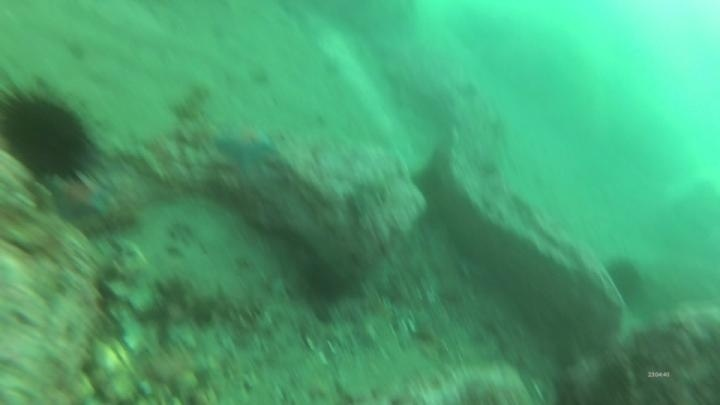echinus: (0, 82, 98, 183), (602, 256, 647, 307)
holothurian: (156, 272, 270, 328), (168, 81, 213, 125)
starfish: (211, 120, 279, 179), (42, 172, 115, 224)
